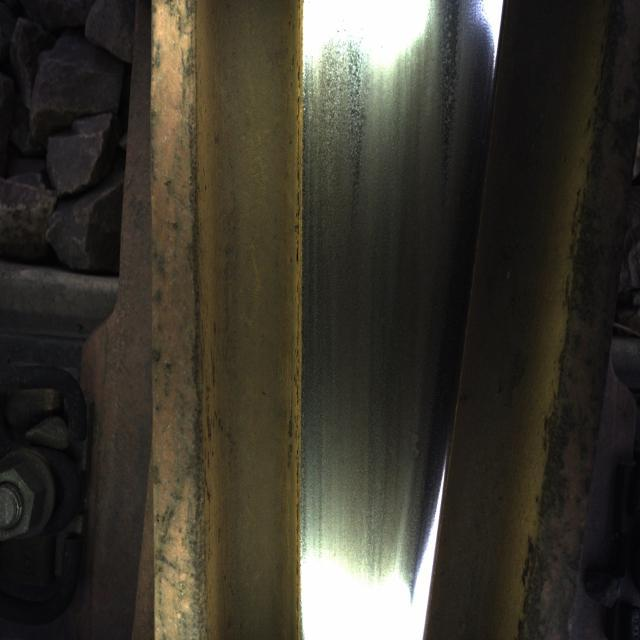break: (302, 28, 402, 582)
